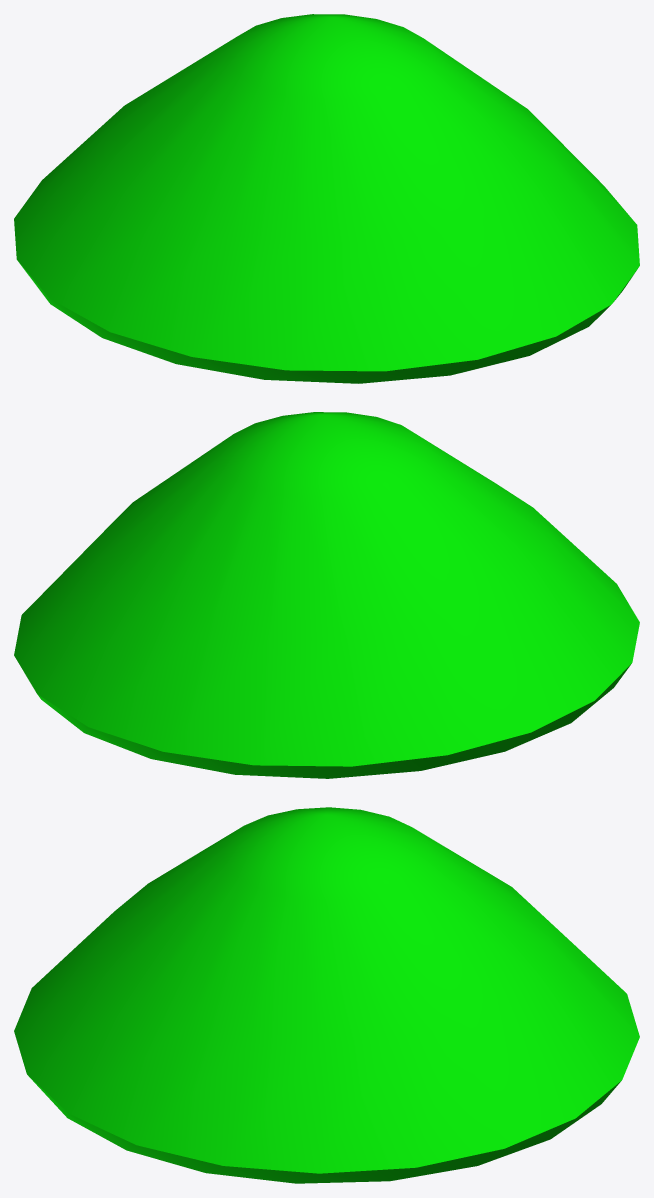
File: propeller_cover3.fbx
3 renders of one model, top to bottom at view 1: azimuth 30°, elevation 25°; view 2: azimuth 150°, elevation 25°; view 3: azimuth 270°, elevation 25°, orthographic.
Visible parts, largest first — view 1: polySurface20; view 2: polySurface20; view 3: polySurface20.
Part boxes in pixels (left/top/right/bottom): polySurface20: left=14, top=14, right=639, bottom=383; polySurface20: left=14, top=412, right=639, bottom=778; polySurface20: left=14, top=807, right=639, bottom=1183.
Size of the model in its own units: 0.6036 by 0.2612 by 0.6038.
